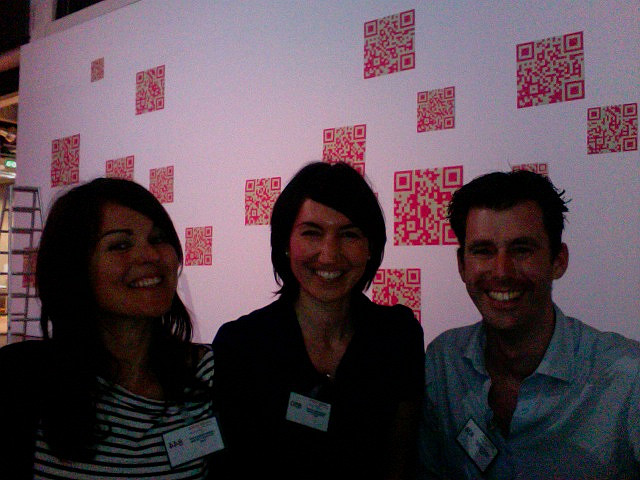QR-CODE: (393, 165, 462, 245), (516, 31, 584, 108), (363, 8, 414, 79), (372, 268, 420, 323), (587, 102, 637, 154), (322, 124, 365, 178), (417, 86, 454, 132), (245, 177, 280, 225), (51, 133, 79, 187), (135, 64, 164, 115), (185, 226, 211, 265), (149, 165, 173, 202), (106, 155, 133, 181), (512, 163, 546, 176), (91, 56, 103, 82)
